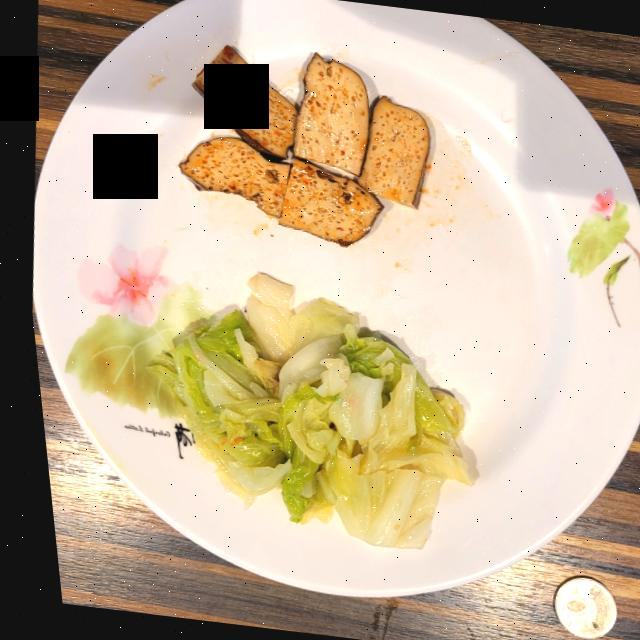cabbage: (142, 274, 461, 548)
coin: (540, 576, 601, 638)
firm tofu: (174, 47, 425, 246)
